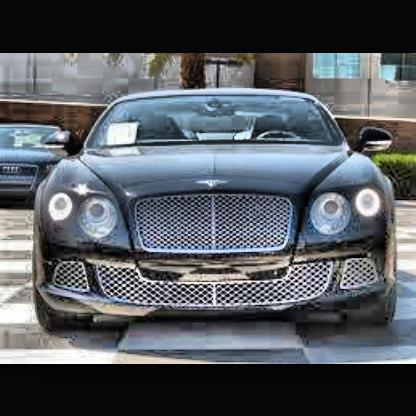Bentley Continental GT Coupe 2012: (35, 88, 399, 346)
